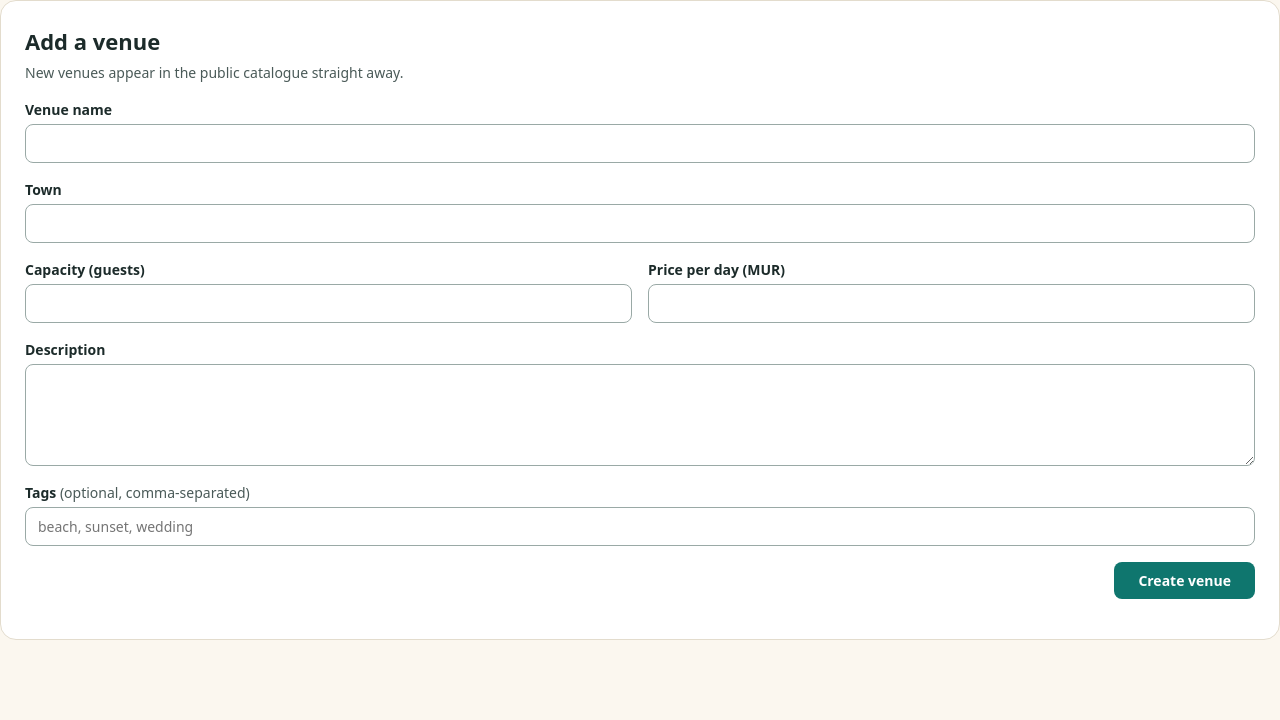
CreateVenueForm: validation › clears a field error as soon as the field is edited
Click the button "Create venue" at (1185, 580), box [1114, 562, 1255, 599]
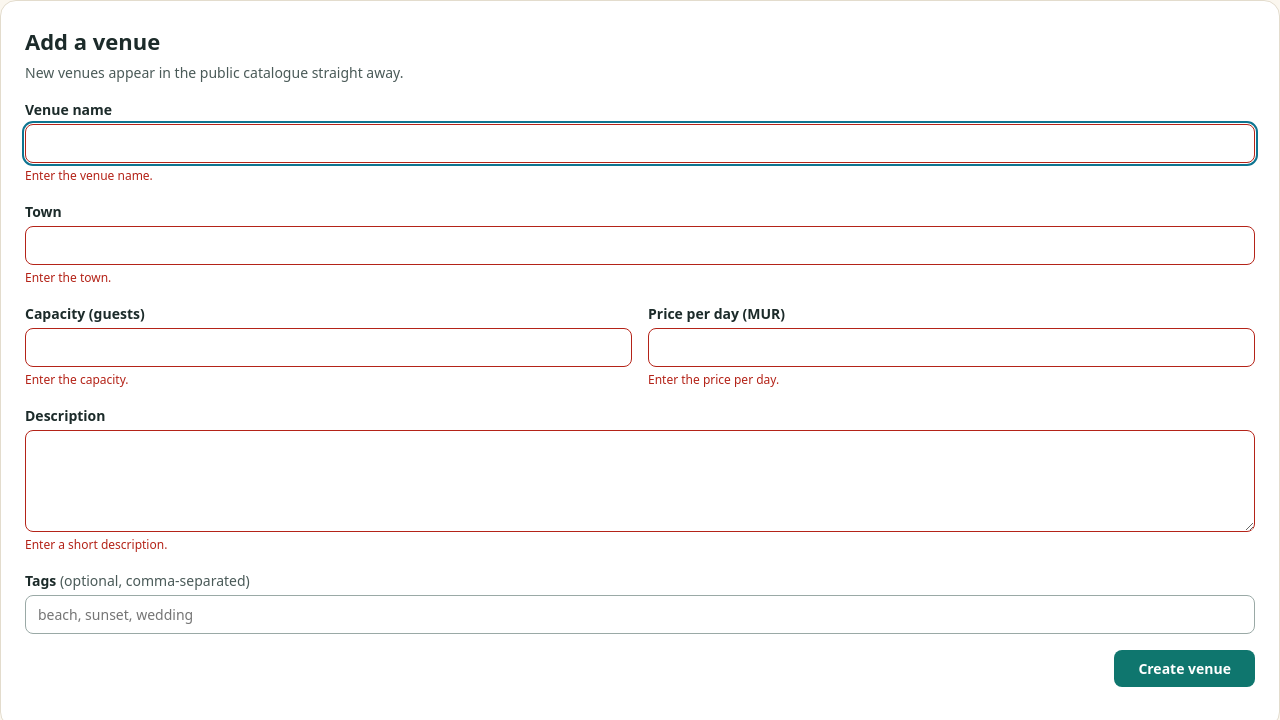
expect the field labelled "Town" is marked as invalid: met
Type "Curepipe" into the field labelled "Town" at (640, 246), box [25, 226, 1255, 265]
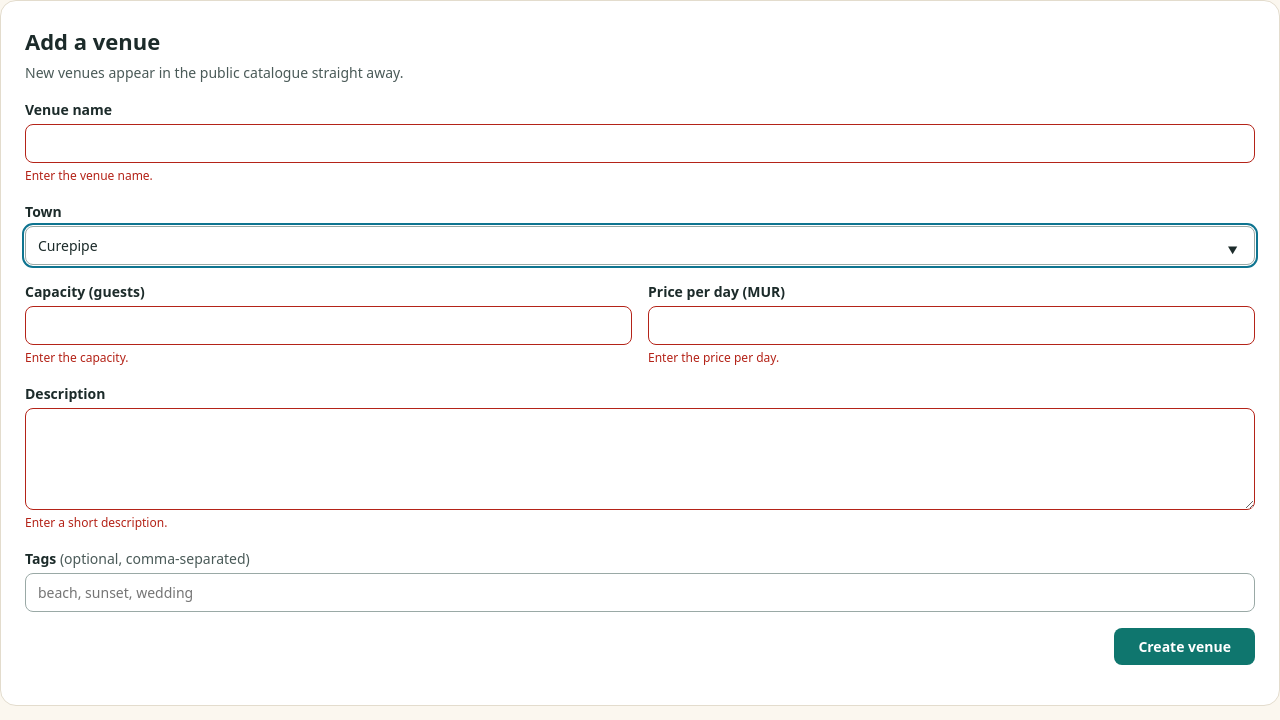
expect the text "Enter the town." is gone: met
